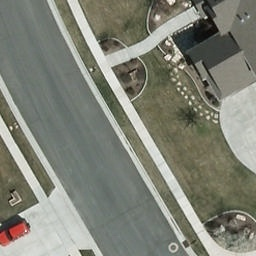car: (0, 220, 33, 249)
